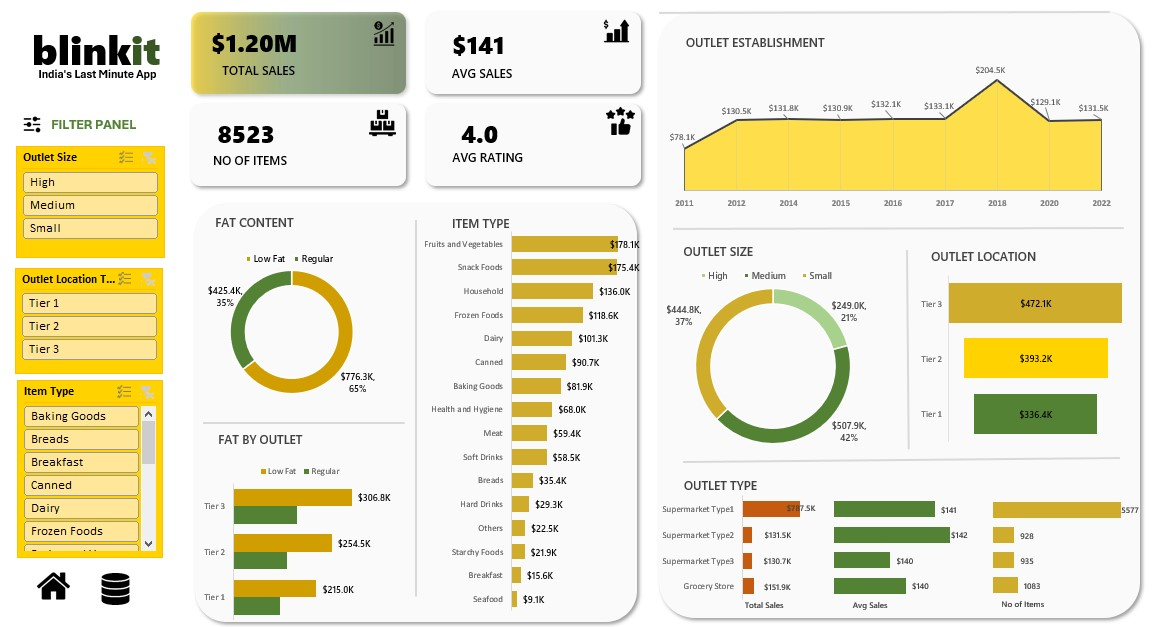

What the dashboard file says about the page in this screenshot:
{"tool":"powerbi","page":{"name":"Page 1","canvas":[1400,800],"ordinal":0},"visuals":[{"type":"shape","box":[36,24,202.6,753.4],"z":0},{"type":"textbox","box":[51,52.5,172.6,76.5],"z":1000},{"type":"textbox","box":[51,114.1,172.6,31.5],"z":2000},{"type":"cardVisual","fields":{"Data":["BlinkIT Grocery Data.Total Sales","BlinkIT Grocery Data.Avg of Sales","BlinkIT Grocery Data.No. of Items","BlinkIT Grocery Data.Avg Rating"]},"box":[239,30,570,270],"z":3000},{"type":"shape","box":[248,290,553,487],"z":4000},{"type":"donutChart","title":"FAT CONTENT","fields":{"Y":["BlinkIT Grocery Data.Avg of Sales"],"Category":["BlinkIT Grocery Data.Item Fat Content"]},"box":[263.3,352.2,241.1,212.2],"z":5000},{"type":"slicer","fields":{"Values":["Metrics.Metrics"]},"box":[291.2,312.2,465.3,40.5],"z":6000},{"type":"cardVisual","fields":{"Data":["BlinkIT Grocery Data.Total Sales"]},"box":[341.1,446.7,85.6,66.7],"z":7000},{"type":"clusteredBarChart","title":"FAT BY OUTLET","fields":{"Y":["BlinkIT Grocery Data.Avg of Sales"],"Category":["BlinkIT Grocery Data.Outlet Location Type"],"Series":["BlinkIT Grocery Data.Item Fat Content"]},"box":[263.3,570,233.3,206.7],"z":8000},{"type":"shape","box":[276.7,505.6,220,116.7],"z":9000},{"type":"shape","box":[496.7,373.3,26.7,382.2],"z":10000},{"type":"barChart","title":"ITEM TYPE","fields":{"Y":["BlinkIT Grocery Data.Avg of Sales"],"Category":["BlinkIT Grocery Data.Item Type"]},"box":[510,352.2,276.7,414.4],"z":11000},{"type":"shape","box":[801.4,41.4,579,735.7],"z":12000},{"type":"lineChart","title":"OUTLET ESTABLISHMENT","fields":{"Category":["BlinkIT Grocery Data.Outlet Establishment Year"],"Y":["BlinkIT Grocery Data.Total Sales"]},"box":[820,65.7,550,242.9],"z":13000},{"type":"shape","box":[820,255.7,531.4,117.1],"z":14000},{"type":"donutChart","title":"OUTLET SIZE","fields":{"Y":["BlinkIT Grocery Data.Total Sales"],"Category":["BlinkIT Grocery Data.Outlet Size"]},"box":[820,332.9,275.7,225.7],"z":15000},{"type":"shape","box":[1017.1,332.9,118.6,181.4],"z":16000},{"type":"funnel","title":"OUTLET LOCATION","fields":{"Y":["Sum(BlinkIT Grocery Data.Sales)"],"Category":["BlinkIT Grocery Data.Outlet Location Type"]},"box":[1085.7,328.6,265.7,218.6],"z":17000},{"type":"shape","box":[820.1,488.1,541,117.7],"z":18000},{"type":"pivotTable","title":"OUTLET TYPE","fields":{"Rows":["BlinkIT Grocery Data.Outlet Type"],"Values":["BlinkIT Grocery Data.Total Sales","BlinkIT Grocery Data.No. of Items","BlinkIT Grocery Data.Avg Rating","Avg(BlinkIT Grocery Data.Item Visibility)","Avg(BlinkIT Grocery Data.Sales)"]},"box":[809.5,559.5,560.8,206.4],"z":19000},{"type":"slicer","fields":{"Values":["BlinkIT Grocery Data.Outlet Location Type"]},"box":[52.9,250,173.3,59.5],"z":20000},{"type":"slicer","fields":{"Values":["BlinkIT Grocery Data.Outlet Size"]},"box":[50.3,386.2,173.3,59.5],"z":21000},{"type":"slicer","fields":{"Values":["BlinkIT Grocery Data.Item Type"]},"box":[50.3,529.1,173.3,60.8],"z":22000},{"type":"textbox","box":[52.5,187.5,172.5,31.2],"z":23000}]}

Visuals, with their boxes on the page's 1400x800 design canvas (x1, y1, x2, y2). These are canvas units, not pixel positions in the 1161x627 screenshot, which may show the page scaled, cropped or inside an application window:
shape: bbox(36, 24, 239, 777)
textbox: bbox(51, 52, 224, 129)
textbox: bbox(51, 114, 224, 146)
cardVisual - BlinkIT Grocery Data.Total Sales x BlinkIT Grocery Data.Avg of Sales: bbox(239, 30, 809, 300)
shape: bbox(248, 290, 801, 777)
"FAT CONTENT" donutChart: bbox(263, 352, 504, 564)
slicer - Metrics.Metrics: bbox(291, 312, 756, 353)
cardVisual - BlinkIT Grocery Data.Total Sales: bbox(341, 447, 427, 513)
"FAT BY OUTLET" clusteredBarChart: bbox(263, 570, 497, 777)
shape: bbox(277, 506, 497, 622)
shape: bbox(497, 373, 523, 756)
"ITEM TYPE" barChart: bbox(510, 352, 787, 767)
shape: bbox(801, 41, 1380, 777)
"OUTLET ESTABLISHMENT" lineChart: bbox(820, 66, 1370, 309)
shape: bbox(820, 256, 1351, 373)
"OUTLET SIZE" donutChart: bbox(820, 333, 1096, 559)
shape: bbox(1017, 333, 1136, 514)
"OUTLET LOCATION" funnel: bbox(1086, 329, 1351, 547)
shape: bbox(820, 488, 1361, 606)
"OUTLET TYPE" pivotTable: bbox(810, 560, 1370, 766)
slicer - BlinkIT Grocery Data.Outlet Location Type: bbox(53, 250, 226, 310)
slicer - BlinkIT Grocery Data.Outlet Size: bbox(50, 386, 224, 446)
slicer - BlinkIT Grocery Data.Item Type: bbox(50, 529, 224, 590)
textbox: bbox(52, 188, 225, 219)
